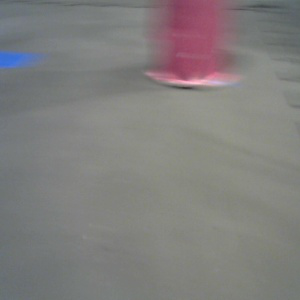Right: (144, 1, 242, 97)
